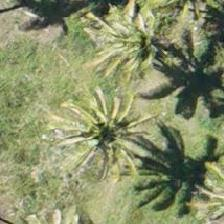coconut_tree: (62, 94, 152, 184), (97, 0, 187, 89)
